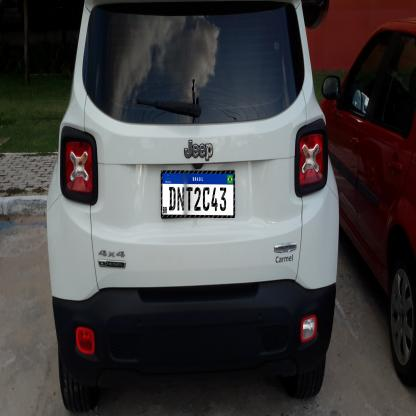PlacaM: (161, 170, 235, 218)
